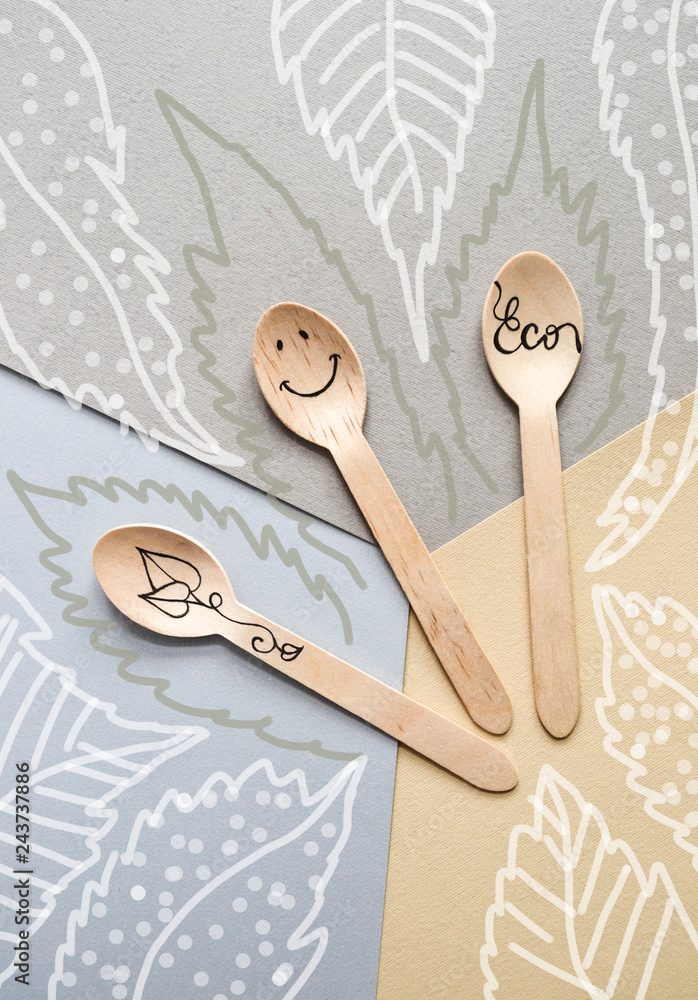Wooden Utensils: (88, 222, 663, 834)
